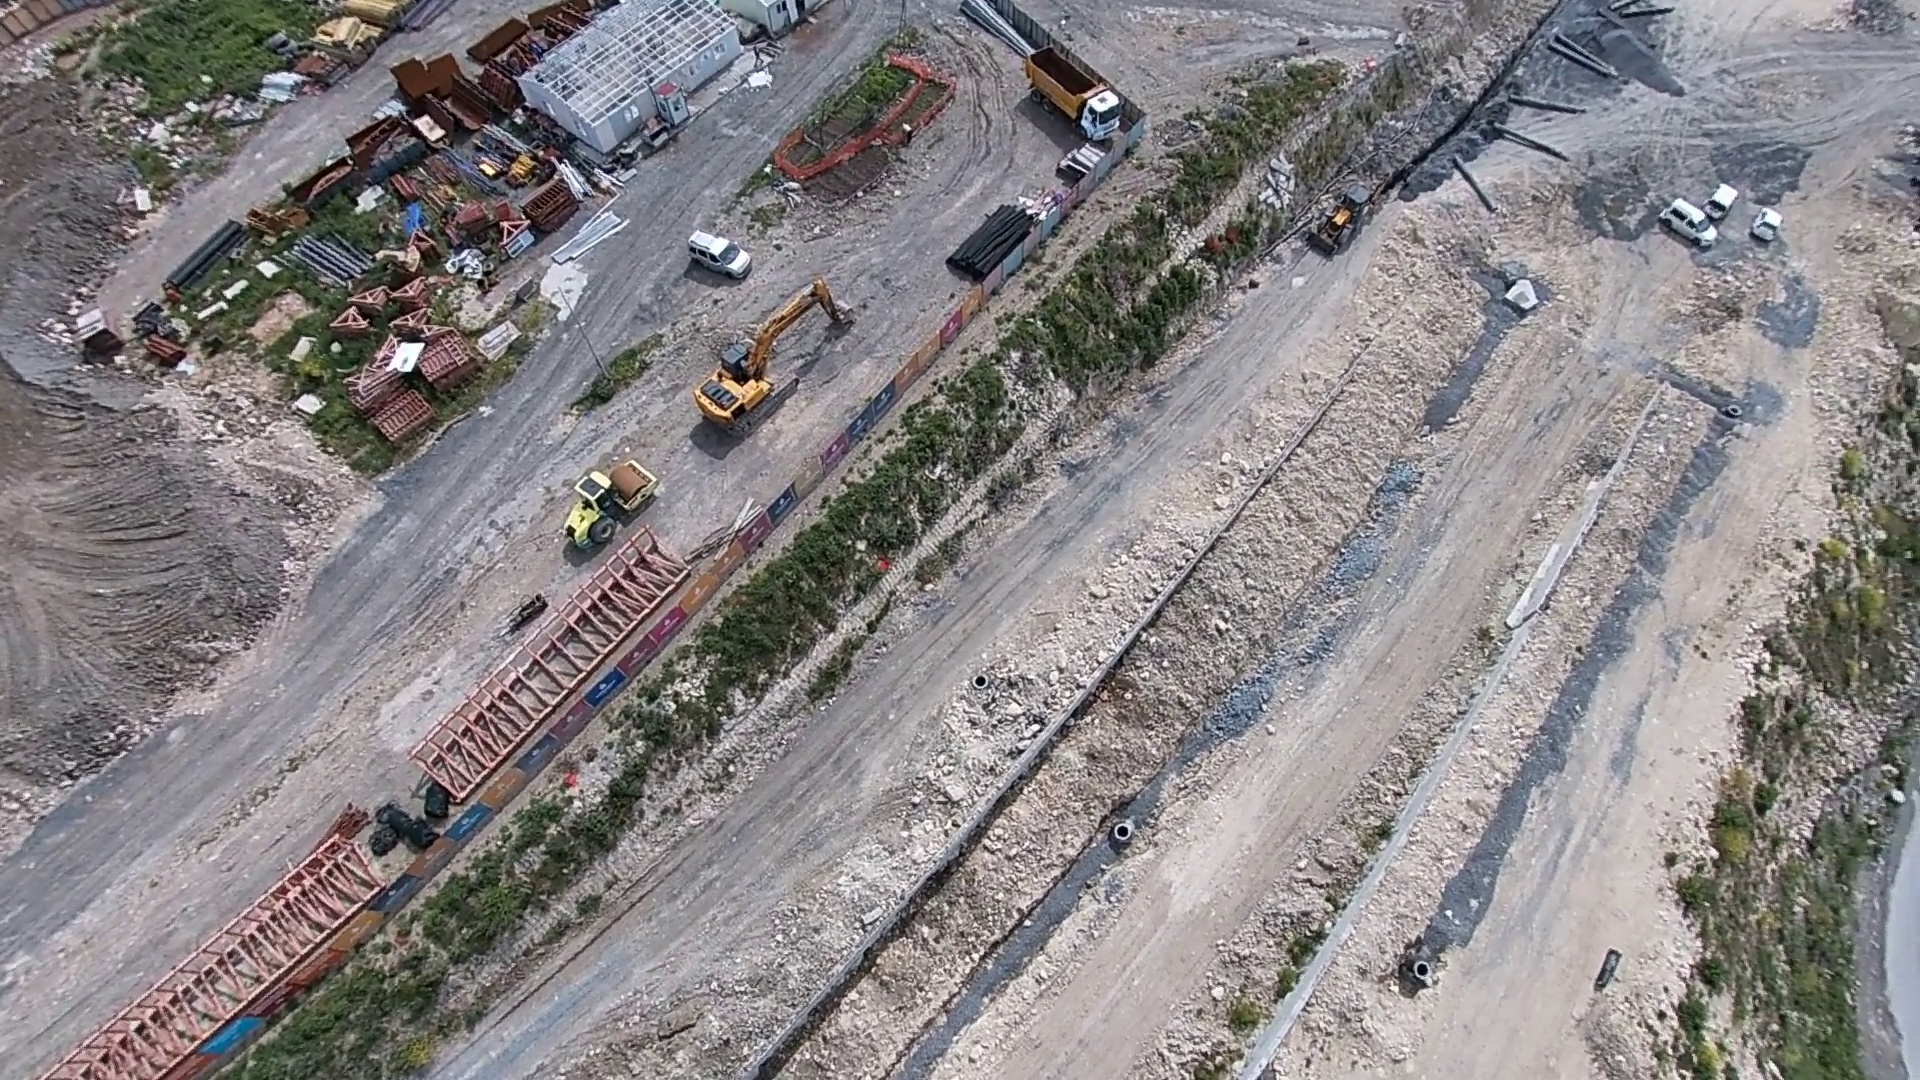arac: (692, 276, 861, 436), (558, 448, 670, 564), (1025, 40, 1127, 145), (1302, 170, 1374, 258), (680, 225, 760, 278), (1662, 193, 1722, 253), (1702, 178, 1768, 227), (1745, 200, 1797, 245)
